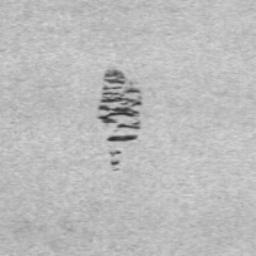Secondary rust skin: (97, 86, 143, 143), (103, 68, 126, 85), (109, 150, 122, 166)
